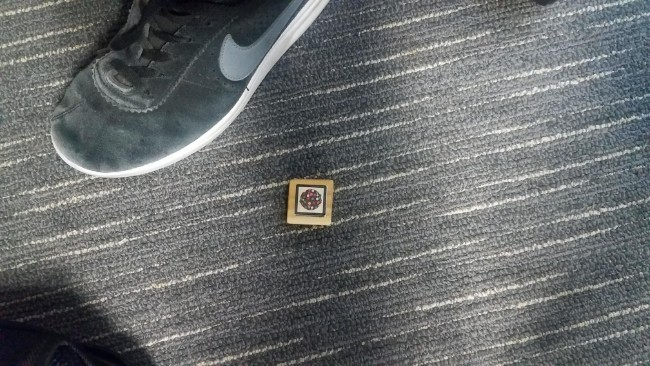cookie: (289, 176, 333, 224)
